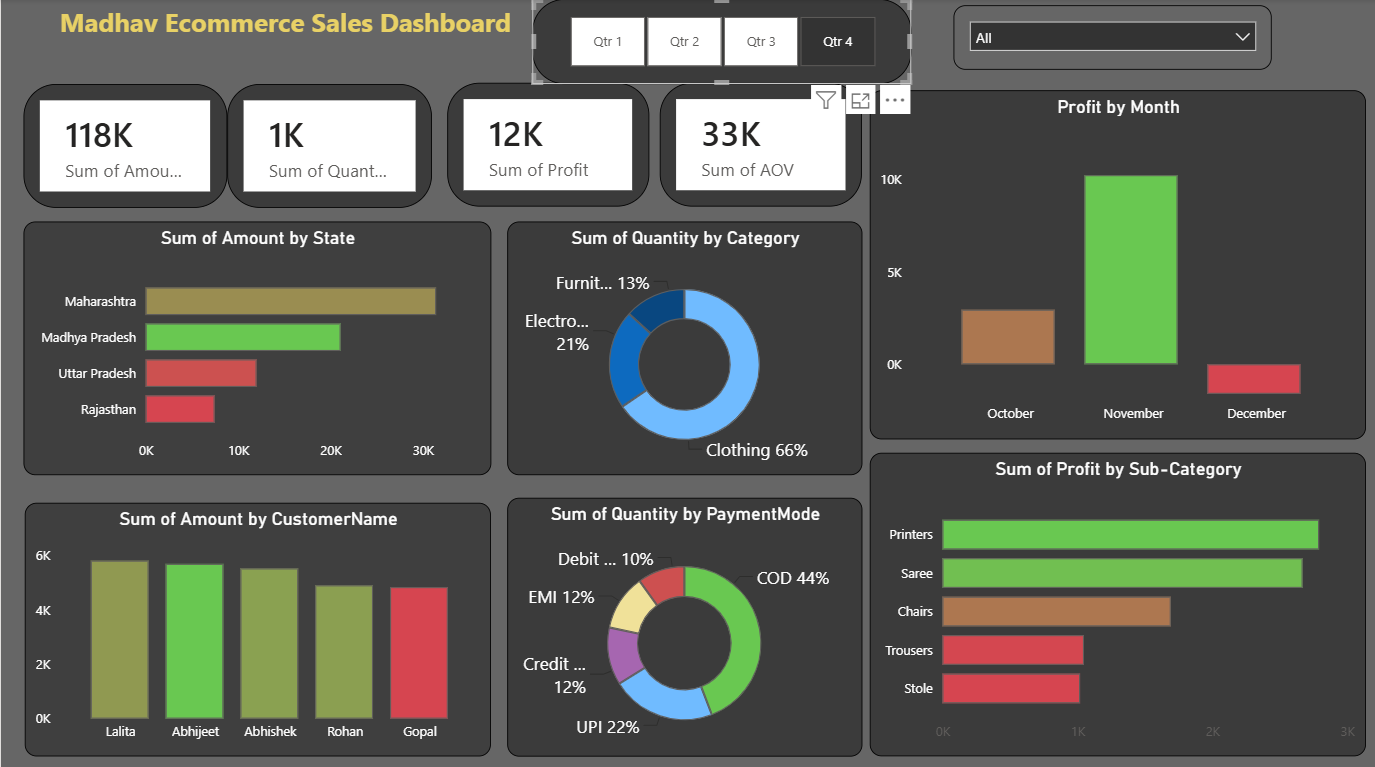

The page's visual inventory and layout, read from the dashboard file:
{"tool":"powerbi","page":{"name":"Page 1","canvas":[1280,720],"ordinal":0},"visuals":[{"type":"textbox","box":[9.6,0,510.5,82.3],"z":0},{"type":"columnChart","title":"Profit by Month","fields":{"Category":["Orders.Order Date.Variation.Date Hierarchy.Month"],"Y":["Sum(Details.Profit)"]},"box":[808.1,84.9,461.6,324.4],"z":1},{"type":"barChart","fields":{"Category":["Details.Sub-Category"],"Y":["Sum(Details.Profit)"]},"box":[808.1,422.1,461.6,282.6],"z":2},{"type":"donutChart","fields":{"Category":["Details.Category"],"Y":["Sum(Details.Quantity)"]},"box":[470.9,207,330.2,236],"z":3},{"type":"donutChart","fields":{"Category":["Details.PaymentMode"],"Y":["Sum(Details.Quantity)"]},"box":[470.9,464,330.2,240.7],"z":4},{"type":"cardVisual","fields":{"Data":["Sum(Details.Amount)"]},"box":[20.6,79.6,189.4,115.3],"z":5},{"type":"cardVisual","fields":{"Data":["Sum(Details.Quantity)"]},"box":[210.5,79.1,190.7,115.3],"z":6},{"type":"cardVisual","fields":{"Data":["Sum(Details.Profit)"]},"box":[415.1,77.9,188,115.3],"z":7},{"type":"cardVisual","fields":{"Data":["Sum(Details.AOV)"]},"box":[612.8,77.9,188.4,115.1],"z":8},{"type":"barChart","fields":{"Category":["Orders.State"],"Y":["Sum(Details.Amount)"]},"box":[20.9,207,434.9,236],"z":9},{"type":"columnChart","fields":{"Category":["Orders.CustomerName"],"Y":["Sum(Details.Amount)"]},"box":[22.1,468.6,433.7,236],"z":10},{"type":"slicer","fields":{"Values":["Orders.Order Date.Variation.Date Hierarchy.Quarter"]},"box":[494,0,352.7,79.6],"z":11},{"type":"slicer","fields":{"Values":["Orders.State"]},"box":[886.5,5.5,296.4,60.4],"z":12}]}

Visuals, with their boxes in screenshot pixels (x1, y1, x2, y2), scaled from the page's 1280x720 canvas onto the 1375x767 screenshot:
textbox: l=10, t=0, r=559, b=88
"Profit by Month" columnChart: l=868, t=90, r=1364, b=436
barChart - Details.Sub-Category x Sum(Details.Profit): l=868, t=450, r=1364, b=751
donutChart - Details.Category x Sum(Details.Quantity): l=506, t=221, r=861, b=472
donutChart - Details.PaymentMode x Sum(Details.Quantity): l=506, t=494, r=861, b=751
cardVisual - Sum(Details.Amount): l=22, t=85, r=226, b=208
cardVisual - Sum(Details.Quantity): l=226, t=84, r=431, b=207
cardVisual - Sum(Details.Profit): l=446, t=83, r=648, b=206
cardVisual - Sum(Details.AOV): l=658, t=83, r=861, b=206
barChart - Orders.State x Sum(Details.Amount): l=22, t=221, r=490, b=472
columnChart - Orders.CustomerName x Sum(Details.Amount): l=24, t=499, r=490, b=751
slicer - Orders.Order Date.Variation.Date Hierarchy.Quarter: l=531, t=0, r=910, b=85
slicer - Orders.State: l=952, t=6, r=1271, b=70
